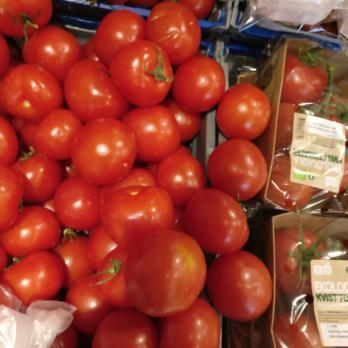Tomato: (0, 8, 268, 325)
